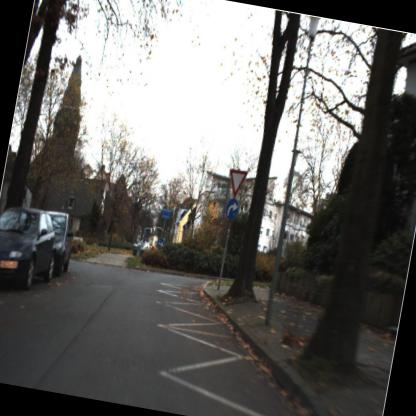mandatory: (223, 198, 240, 223), (154, 233, 166, 252)
other: (221, 162, 250, 199)
